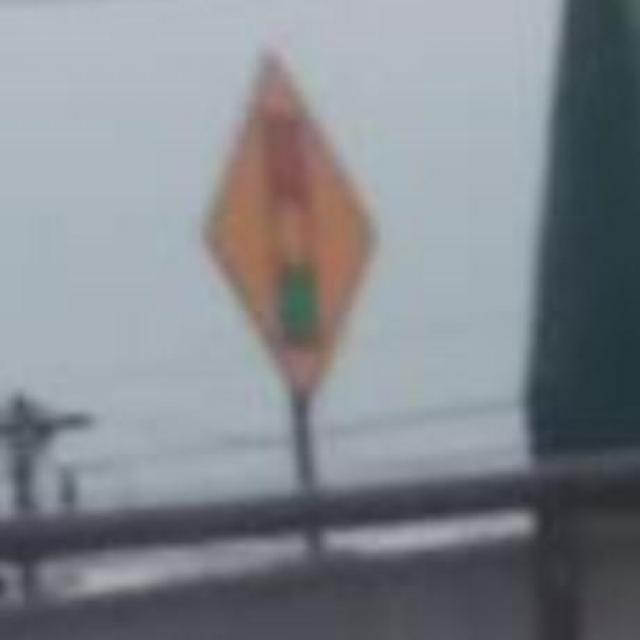traffic sign: (220, 62, 369, 391)
